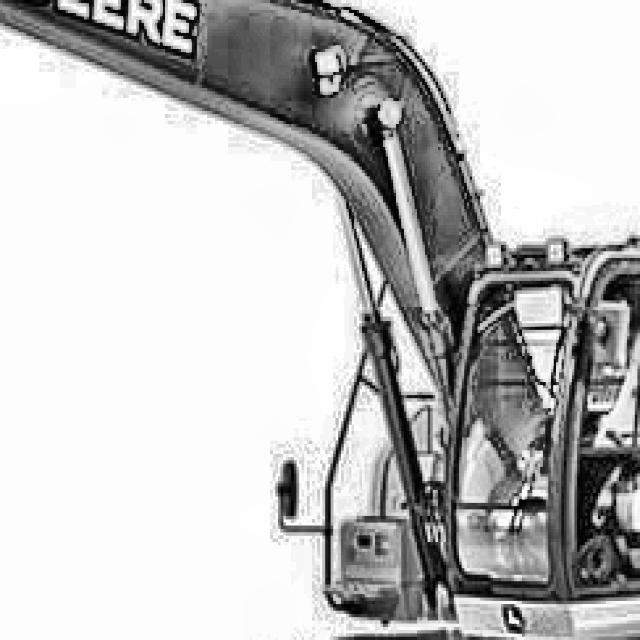excavator: (273, 209, 640, 640)
